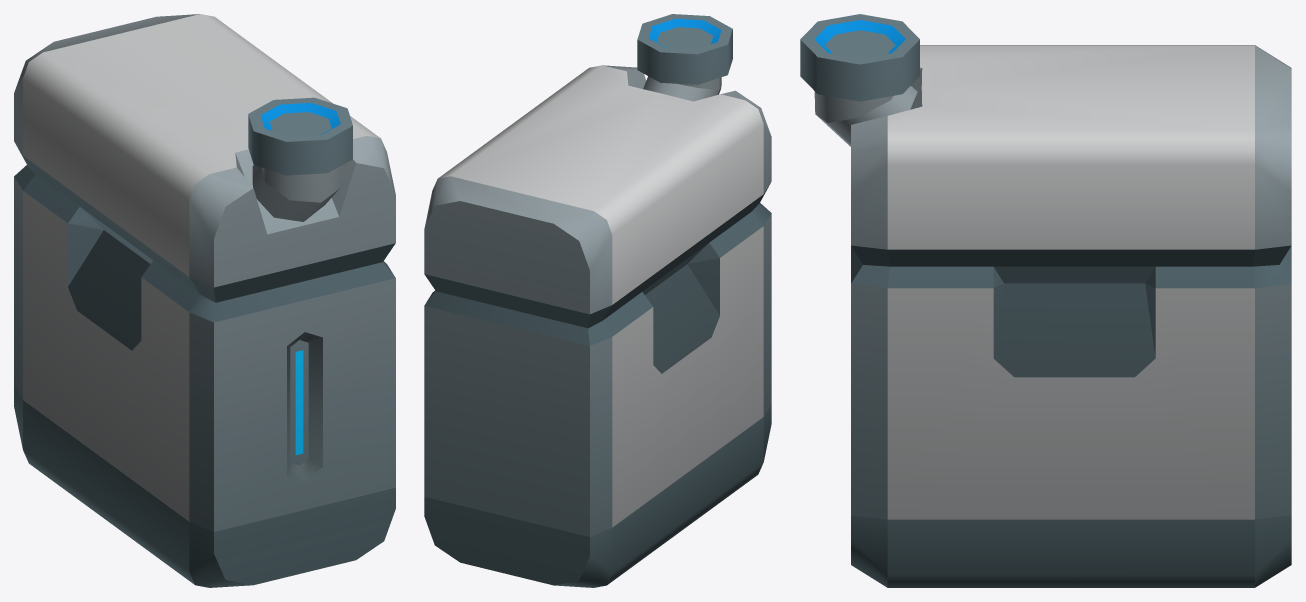
File: Gas_can_001.glb
The picture shows the model from 3 angles, left to right: view 1: azimuth 30°, elevation 25°; view 2: azimuth 150°, elevation 25°; view 3: azimuth 270°, elevation 25°; orthographic projection. The views are drawn at different scales.
Parts seen in each view (by area): view 1: Gas_can_001; view 2: Gas_can_001; view 3: Gas_can_001.
Part boxes in pixels (x1,y1,x2,y2): Gas_can_001: (14, 14, 395, 587); Gas_can_001: (424, 14, 771, 587); Gas_can_001: (800, 14, 1291, 587).
Size of the model in its own units: 0.2505 by 0.5546 by 0.4887.
2 materials, 2 textured.
